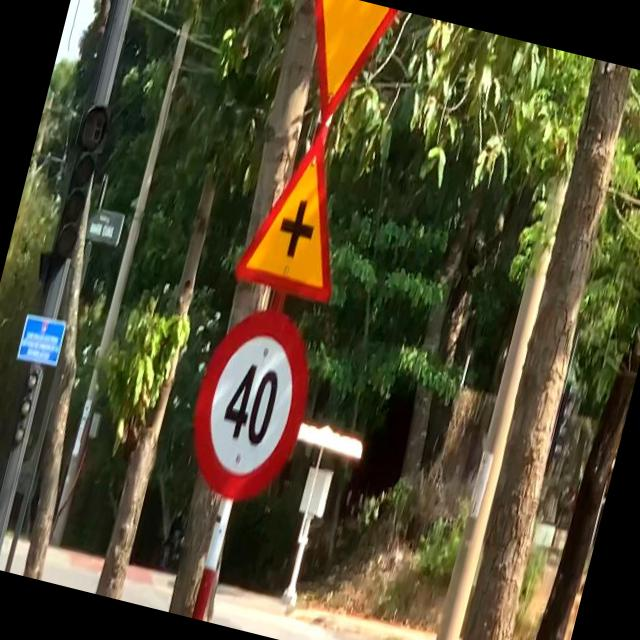P-127: (174, 296, 327, 512)
W-205a: (231, 111, 372, 305)
